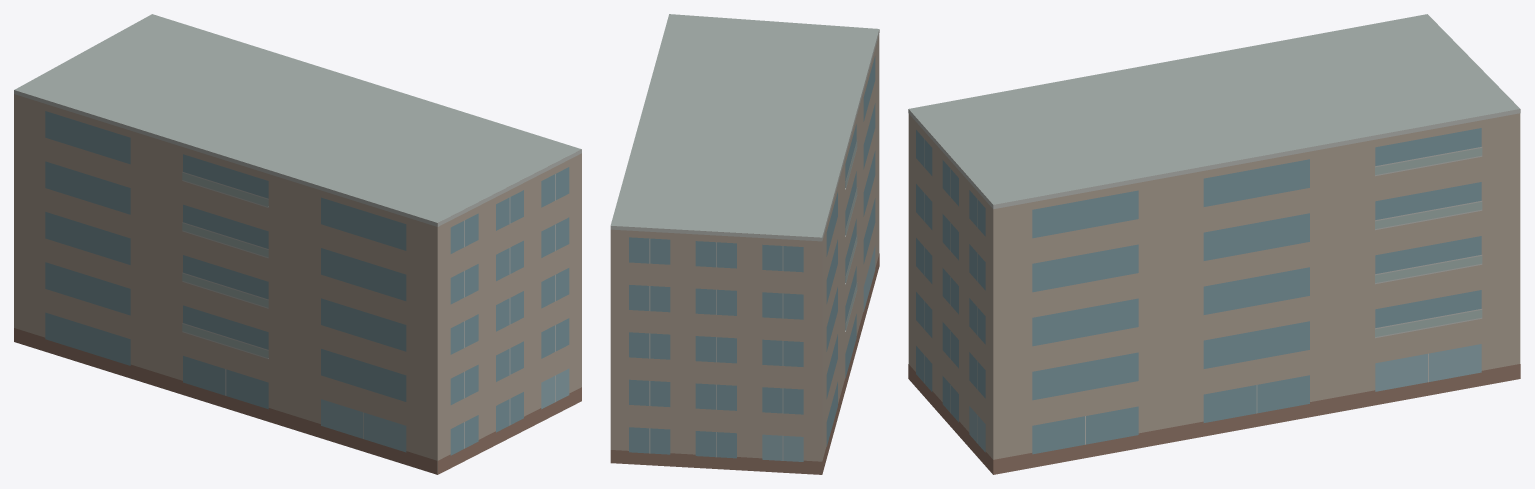
File: residential-ae7a42cf-7b03-49f0-9b91-279d60719d5c.glb
3 views of the same model, side by side, from view 1: azimuth 30°, elevation 25°; view 2: azimuth 150°, elevation 25°; view 3: azimuth 270°, elevation 25° (orthographic). The views are drawn at different scales.
Visible parts, largest first — view 1: residential-ae7a42cf-7b03-49f0-9b91-279d60719d5c.tmp; view 2: residential-ae7a42cf-7b03-49f0-9b91-279d60719d5c.tmp; view 3: residential-ae7a42cf-7b03-49f0-9b91-279d60719d5c.tmp.
Part boxes in pixels (left/top/right/bottom): residential-ae7a42cf-7b03-49f0-9b91-279d60719d5c.tmp: left=14, top=14, right=581, bottom=474; residential-ae7a42cf-7b03-49f0-9b91-279d60719d5c.tmp: left=610, top=14, right=879, bottom=474; residential-ae7a42cf-7b03-49f0-9b91-279d60719d5c.tmp: left=908, top=14, right=1520, bottom=474.
Bounding box in the file's own units: 23.14 × 15.25 × 31.34.
